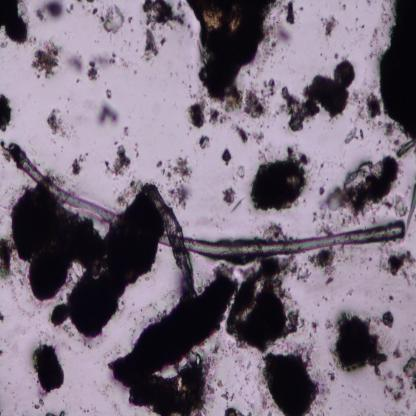Background material: (107, 264, 238, 414), (50, 198, 160, 336), (184, 0, 287, 104), (12, 188, 99, 295), (224, 254, 306, 351), (319, 150, 401, 229), (282, 59, 356, 134), (379, 0, 416, 137), (256, 345, 328, 415), (251, 146, 311, 212), (327, 312, 389, 375), (31, 339, 66, 395), (156, 156, 195, 206), (31, 37, 63, 79), (245, 79, 277, 119), (143, 0, 187, 29), (0, 0, 30, 42), (391, 355, 416, 400), (103, 142, 133, 177), (380, 247, 416, 276), (399, 179, 416, 235), (314, 247, 336, 285), (48, 108, 72, 140), (142, 26, 161, 66), (116, 178, 143, 206), (87, 52, 113, 81), (0, 235, 16, 281), (102, 5, 125, 36), (98, 100, 122, 128), (186, 99, 206, 132), (34, 0, 64, 21), (223, 186, 245, 211), (364, 92, 382, 120), (291, 258, 312, 282), (0, 93, 13, 130), (397, 137, 416, 162), (71, 151, 90, 175), (206, 106, 231, 124), (345, 124, 364, 146), (235, 122, 253, 144), (381, 302, 394, 330), (352, 14, 368, 36), (68, 56, 86, 74), (224, 401, 246, 415), (322, 14, 336, 36), (368, 30, 378, 60), (274, 220, 289, 240), (285, 1, 296, 26), (220, 147, 232, 168), (43, 408, 67, 416), (198, 134, 210, 150), (309, 315, 320, 332), (253, 130, 265, 144), (33, 396, 44, 411), (236, 164, 245, 180), (66, 1, 79, 12), (0, 312, 8, 327), (0, 341, 5, 361), (348, 285, 354, 299), (92, 5, 100, 15), (122, 126, 130, 136), (106, 88, 113, 99), (86, 0, 96, 4), (334, 53, 338, 58)
Cellulose filter fibre: (144, 184, 198, 301)
Microfibre: (10, 142, 406, 257)
